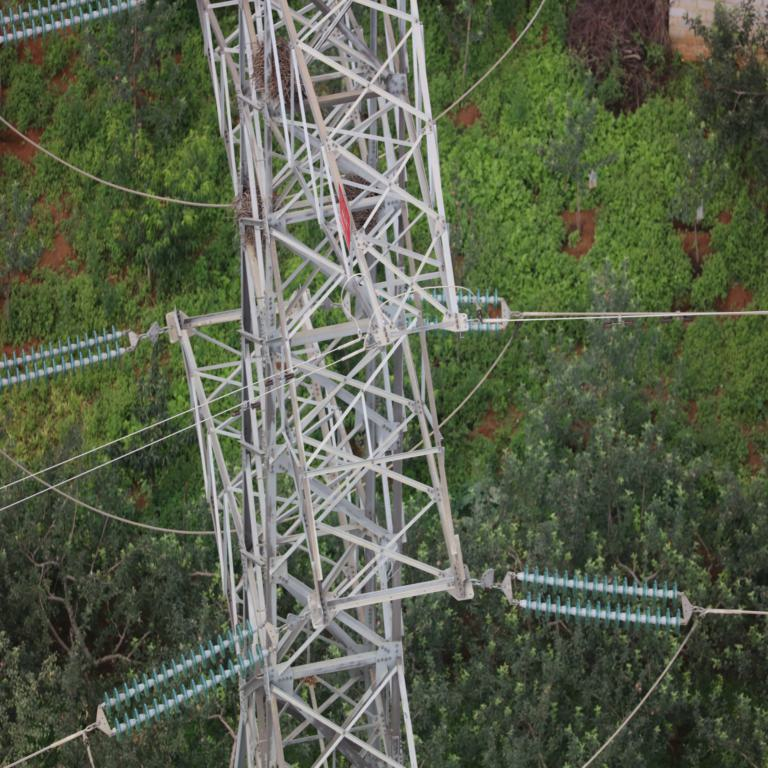nest: (340, 173, 380, 232), (234, 183, 273, 240), (255, 39, 293, 96)
